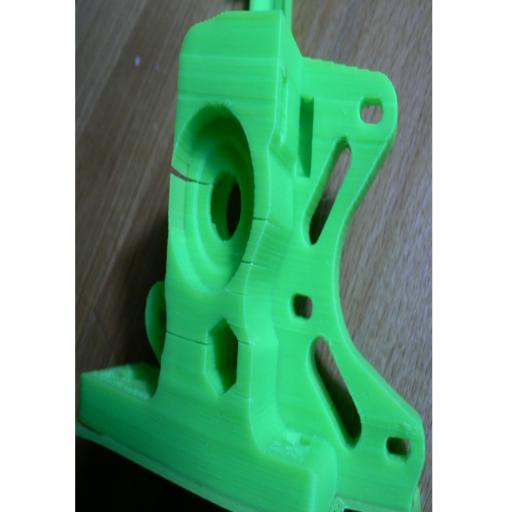cracks: (158, 145, 212, 202), (160, 320, 220, 370), (243, 204, 278, 283)
